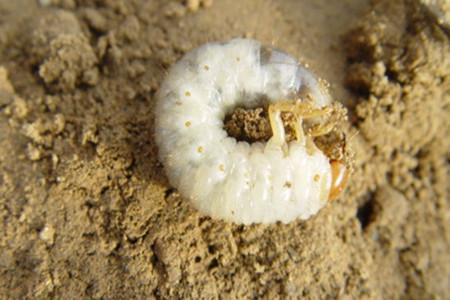grub: (153, 36, 346, 228)
